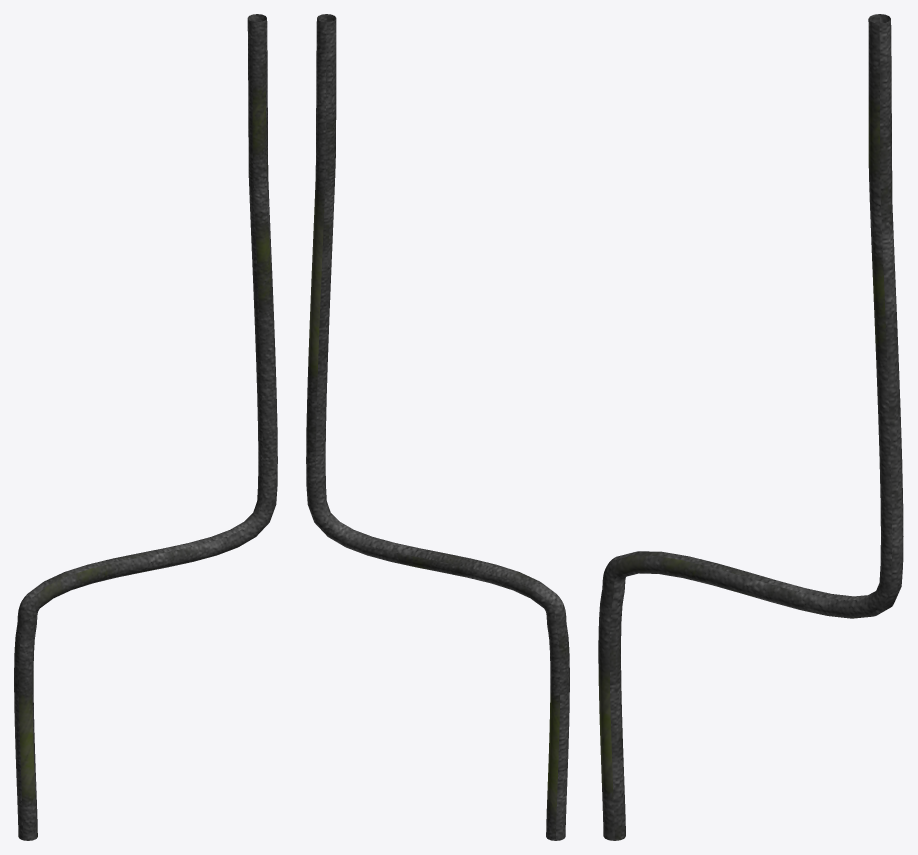
The model's file is pipe_2.glb.
3 views of the same model, side by side, from view 1: azimuth 30°, elevation 25°; view 2: azimuth 150°, elevation 25°; view 3: azimuth 330°, elevation 25° (orthographic). The views are drawn at different scales.
Parts seen in each view (by area): view 1: BézierCurve.001; view 2: BézierCurve.001; view 3: BézierCurve.001.
Boxes of the visible parts, x1,y1,x2,y2 form: BézierCurve.001: [14, 14, 277, 840]; BézierCurve.001: [306, 14, 569, 840]; BézierCurve.001: [598, 14, 903, 840].
Bounding box in the file's own units: 1.24 × 3.45 × 0.08.
Materials: 1 (1 with a texture image).
